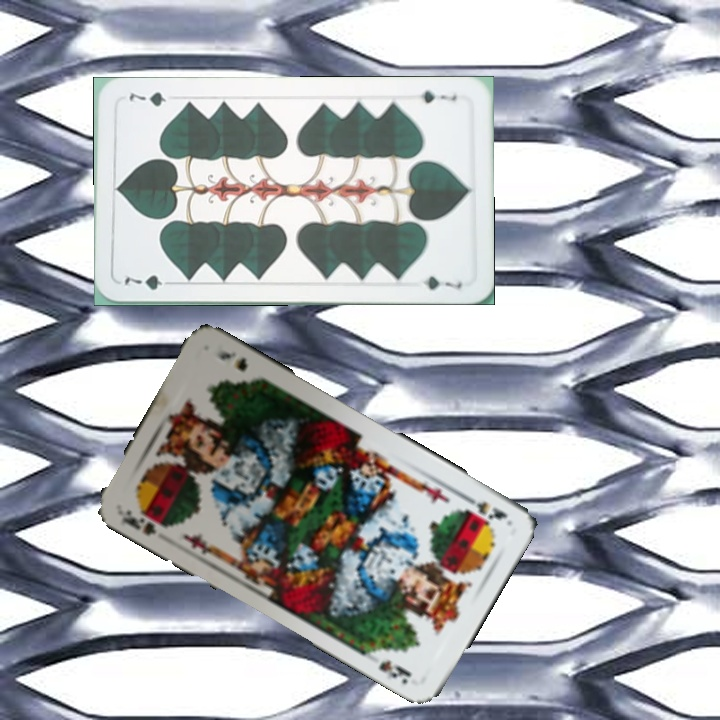G7: (121, 271, 178, 293), (416, 86, 459, 106)
SK: (117, 503, 173, 538), (457, 490, 510, 523)
